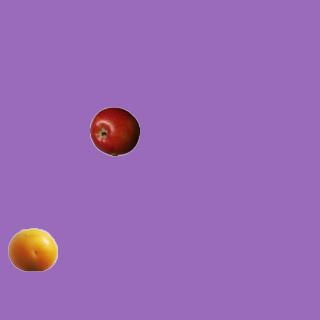Apple Braeburn: (89, 106, 139, 156)
Cherry Wax Yellow: (7, 224, 57, 274)
